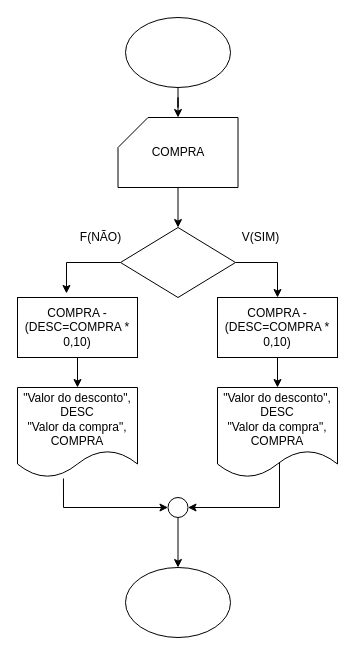
Some shapes in this 355 by 655 pixel diagram are drawn without their labels. Here are the shapes that lost their labels. From the top down, the box of each, then its label:
(124, 16, 230, 88): INICIO
(120, 226, 236, 298): COMPRA > 300
(124, 566, 230, 638): FIM
